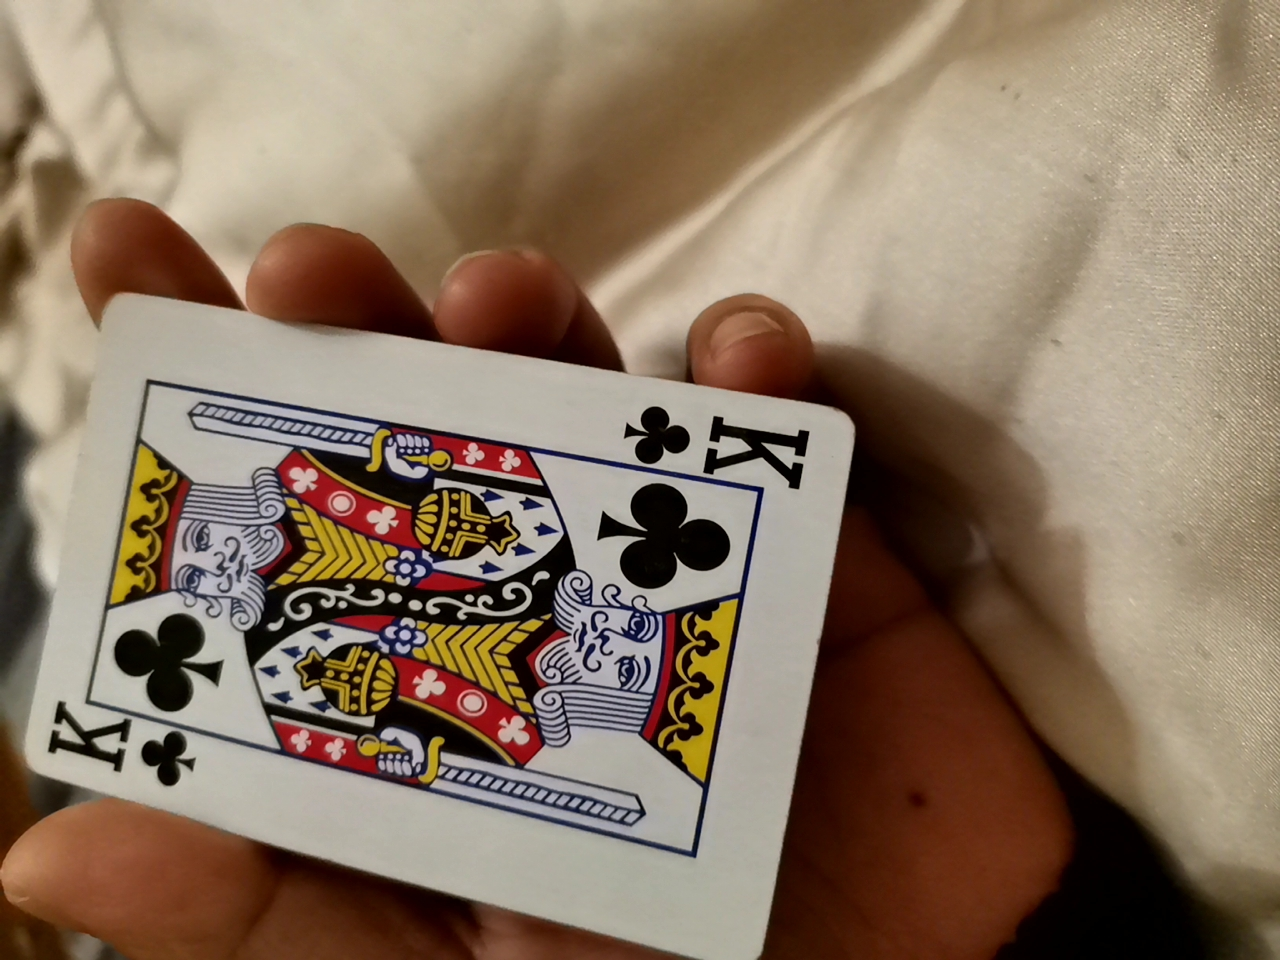mh k: (12, 323, 877, 958)
